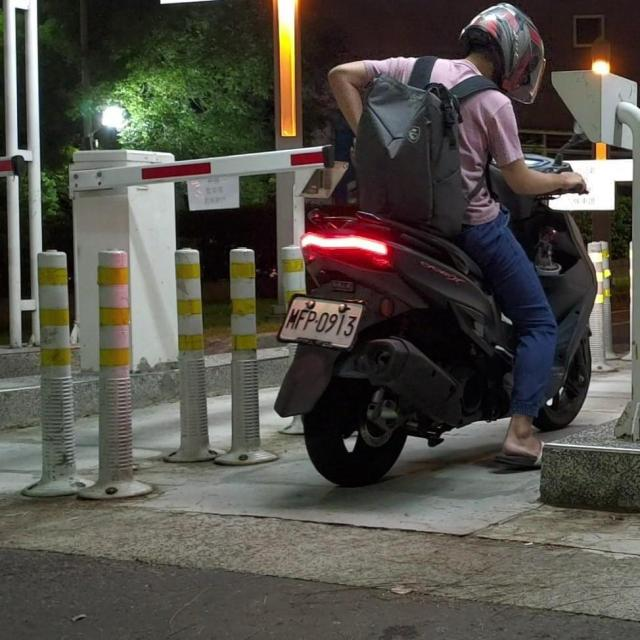W: (278, 293, 364, 349)
